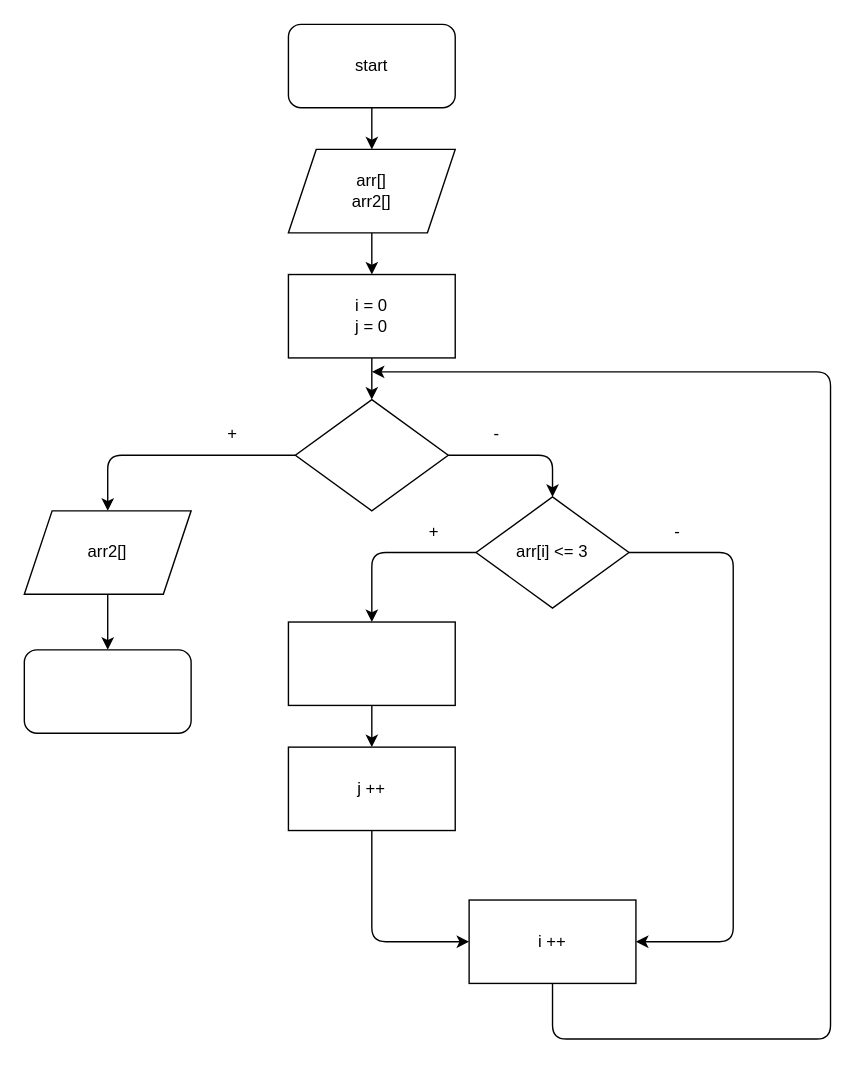
This 866x1074 diagram has some shape labels left out. Here are the shapes that lost their labels. From the top down, the centre of each, then its label:
(x=371, y=454): i > arr.lendth
(x=371, y=663): arr2[j] = arr[i]
(x=107, y=690): finish
